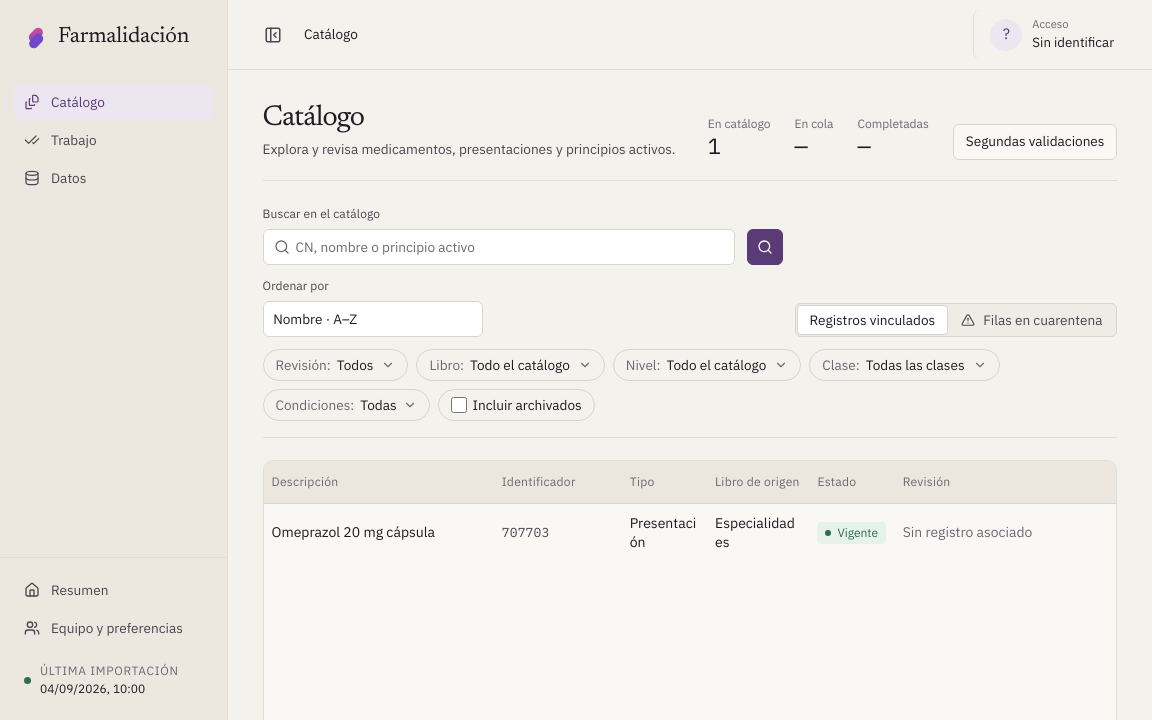
Test: ficha de un registro real › abre el expediente REAL desde el catálogo
Click the button "Omeprazol 20 mg cápsula": (379, 533) [272,522,486,543]
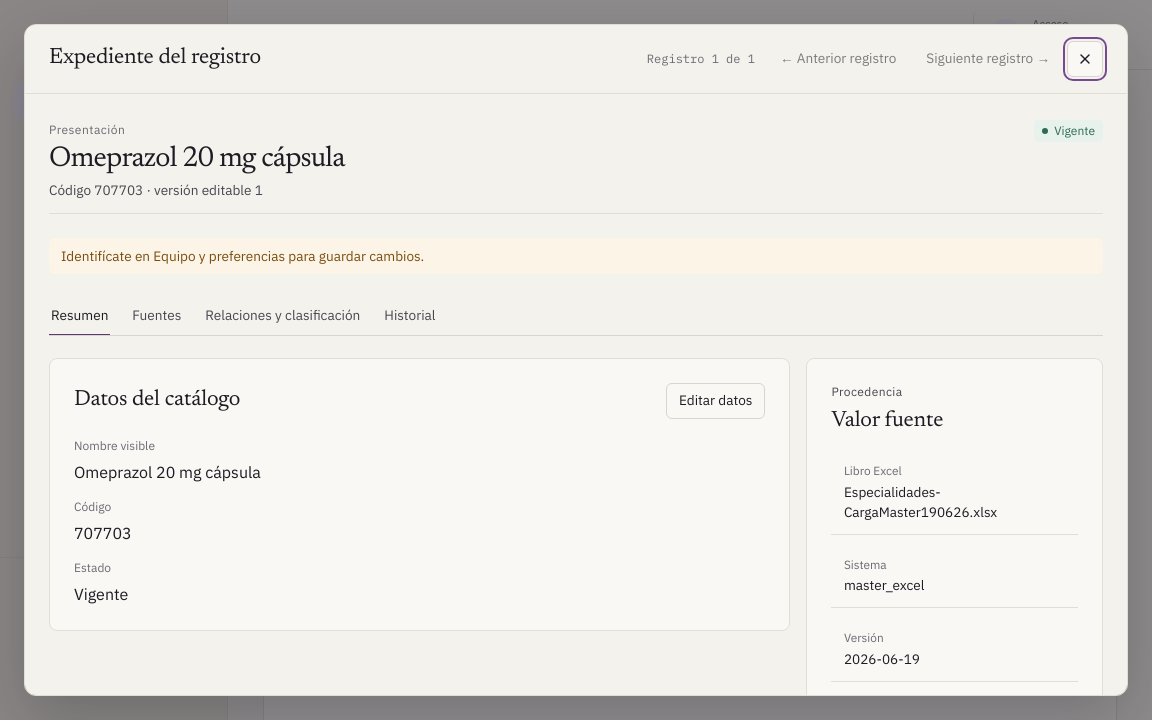
Check: the dialog "Expediente del registro" is shown
Check: the heading "Omeprazol 20 mg cápsula" is shown, box [49,143,345,176]
